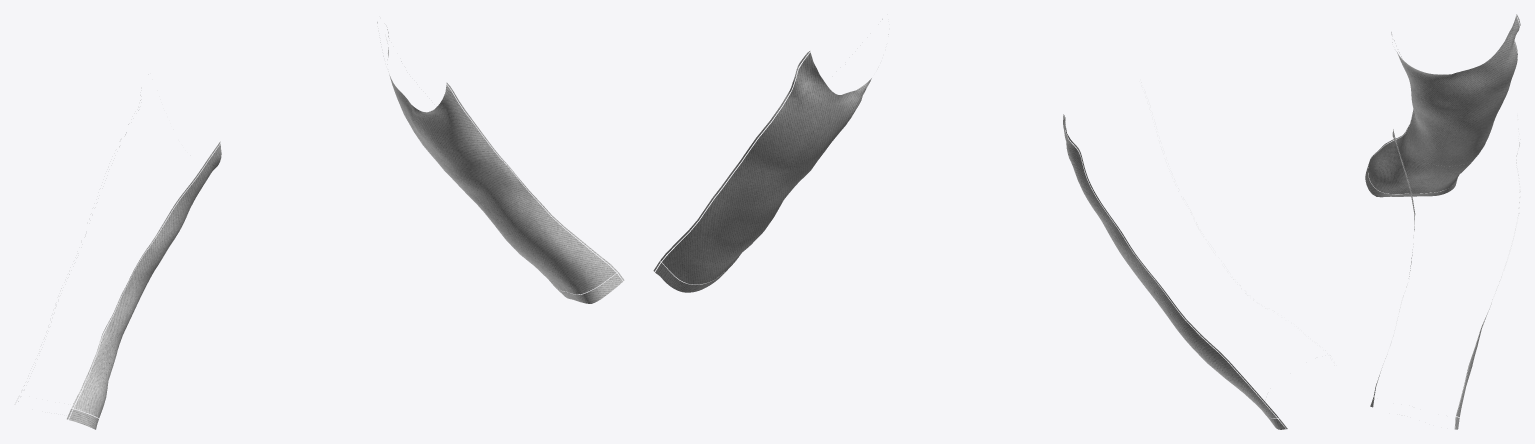
The model's file is Decor_Hand_Down.glb.
3 views of the same model, side by side, from view 1: azimuth 30°, elevation 25°; view 2: azimuth 150°, elevation 25°; view 3: azimuth 270°, elevation 25° (orthographic). The views are drawn at different scales.
Visible parts, largest first — view 1: Decor_Hand_Down1; view 2: Decor_Hand_Down1; view 3: Decor_Hand_Down1.
Part boxes in pixels (<box>): Decor_Hand_Down1: <box>18,22,624,429</box>; Decor_Hand_Down1: <box>653,19,1334,429</box>; Decor_Hand_Down1: <box>1365,14,1520,429</box>.
Bounding box in the file's own units: 1.61 × 0.7533 × 0.4196.
Materials: 1 (1 with a texture image).
